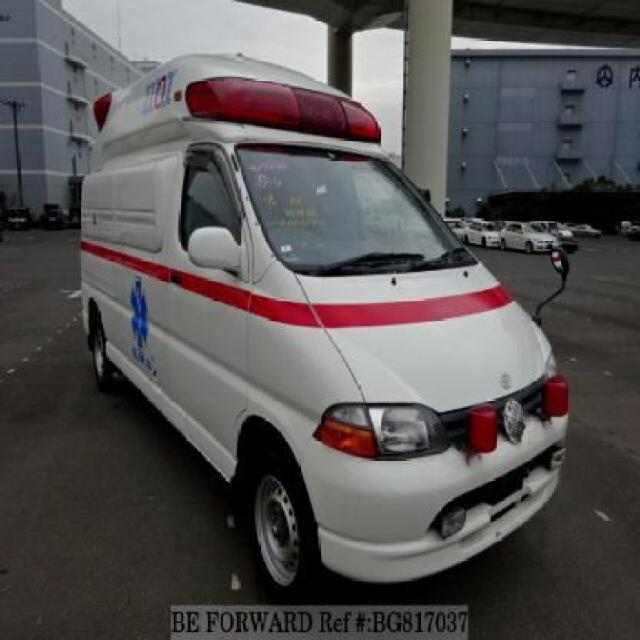Ambulance: (45, 49, 603, 578)
